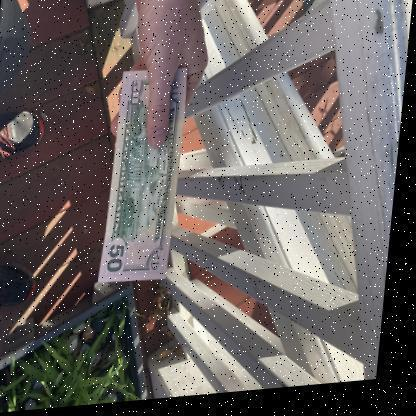dollar_back: (103, 72, 188, 285)
